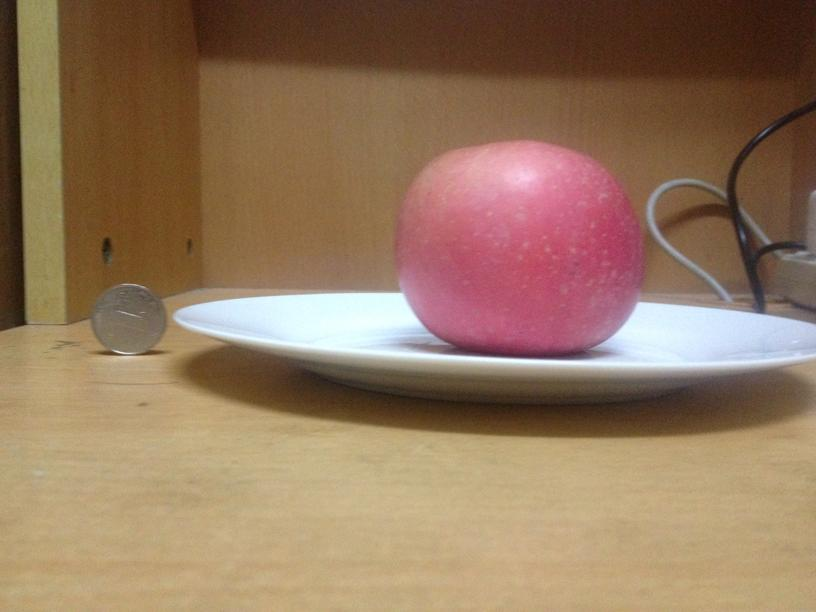apple: (391, 142, 642, 354)
coin: (90, 283, 166, 355)
